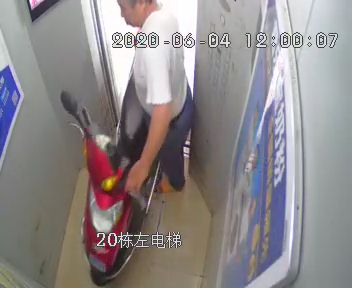Electric-bicycle: (61, 56, 162, 285)
